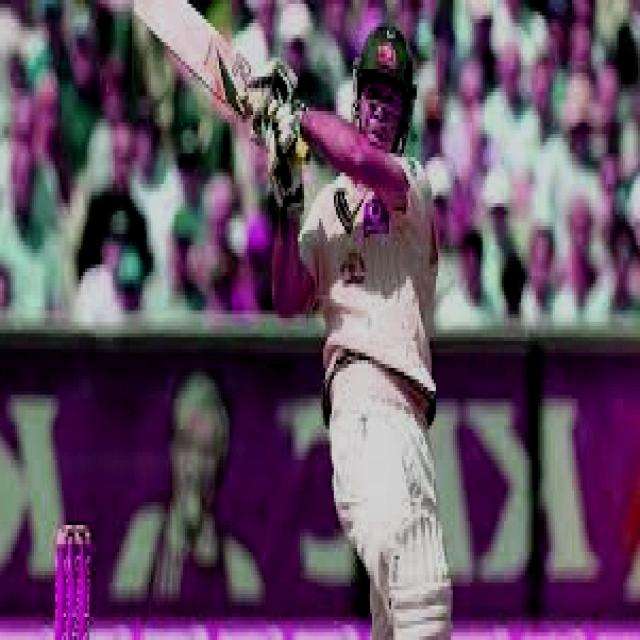toe: (126, 0, 186, 20)
